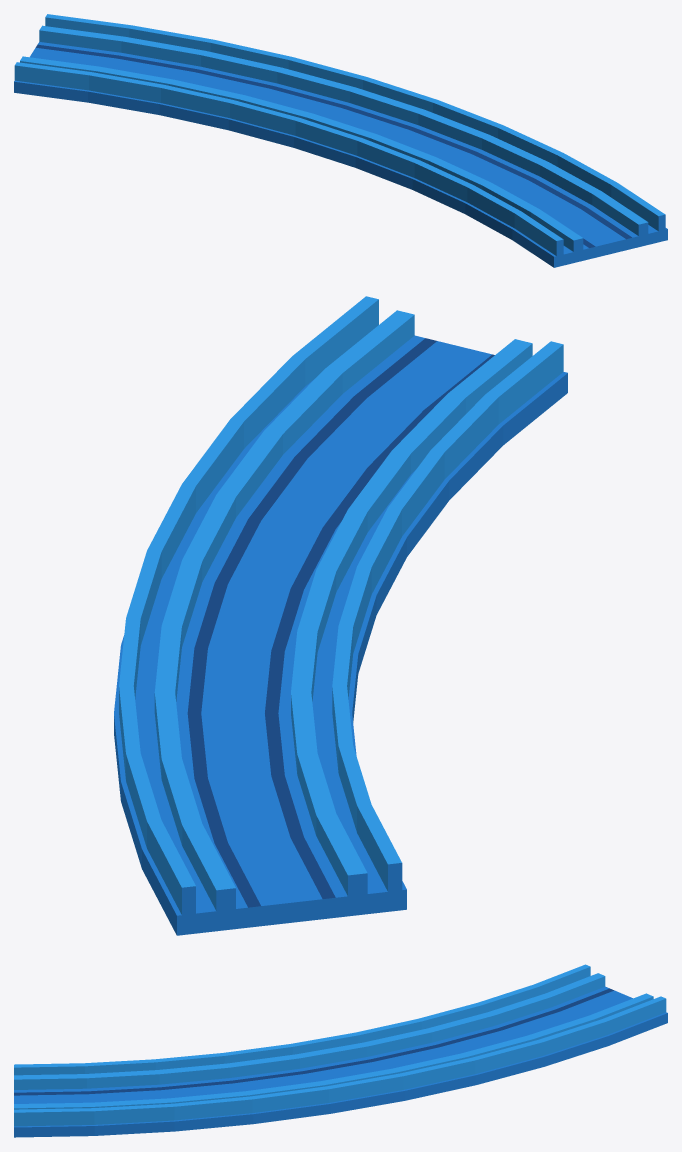
File: Track_Curve_Outer_Left_45.fbx
3 renders of one model, top to bottom at view 1: azimuth 30°, elevation 25°; view 2: azimuth 150°, elevation 25°; view 3: azimuth 270°, elevation 25°, orthographic. The views are drawn at different scales.
Parts seen in each view (by area): view 1: Molded blue rail; view 2: Molded blue rail; view 3: Molded blue rail.
Part boxes in pixels (x1,y1,x2,y2): Molded blue rail: [14, 14, 667, 267]; Molded blue rail: [114, 296, 567, 935]; Molded blue rail: [14, 964, 667, 1137].
Size of the model in its own units: 315 by 23.21 by 579.
